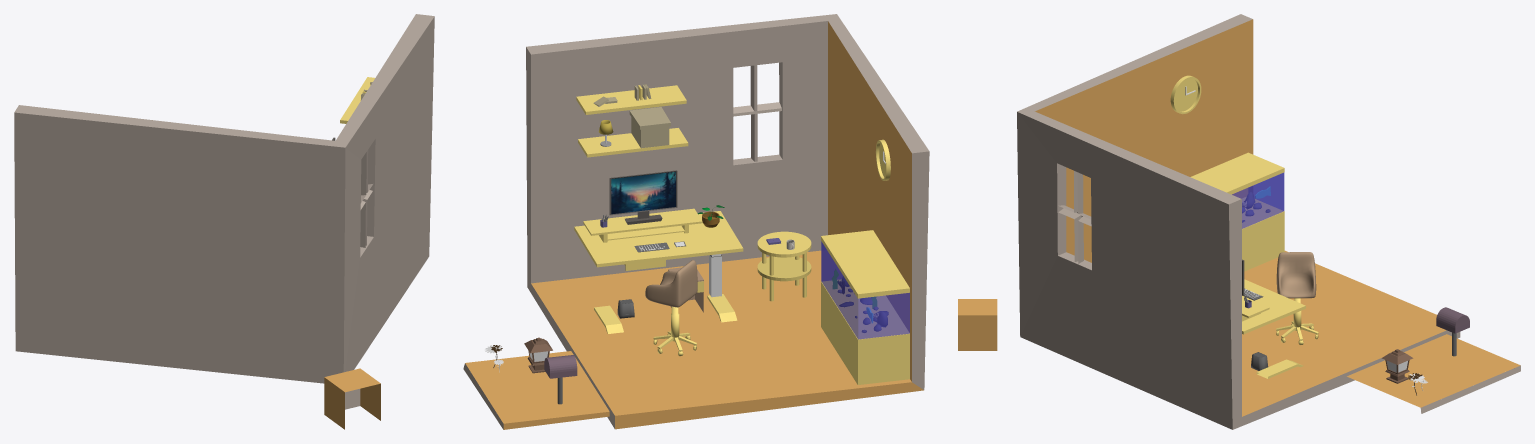
The model's file is Finale Version 2.glb.
3 renders of one model, left to right at view 1: azimuth 30°, elevation 25°; view 2: azimuth 150°, elevation 25°; view 3: azimuth 270°, elevation 25°, orthographic. The views are drawn at different scales.
Parts seen in each view (by area): view 1: Body, Cube, Shelves; view 2: Body, Aquarium, Desks, Mini Floor, Shelves, Table Stuff, Computer, Chair, Floor Items, Mailbox, Lamp, Clock; view 3: Body, Mini Floor, Aquarium, Cube, Desks, Chair, Clock, Floor Items, Mailbox, Lamp, Table Stuff.
Boxes of the visible parts, x1,y1,x2,y2 form: Body: [14, 14, 434, 383]; Cube: [324, 368, 380, 429]; Shelves: [340, 77, 374, 123]; Body: [526, 14, 929, 429]; Aquarium: [821, 230, 909, 384]; Desks: [574, 211, 811, 334]; Mini Floor: [463, 351, 609, 429]; Shelves: [576, 84, 688, 157]; Table Stuff: [583, 205, 794, 252]; Computer: [609, 170, 677, 224]; Chair: [645, 260, 697, 307]; Floor Items: [617, 267, 703, 356]; Mailbox: [544, 355, 577, 404]; Lamp: [524, 337, 552, 373]; Clock: [875, 139, 890, 180]; Body: [1017, 14, 1460, 429]; Mini Floor: [1347, 334, 1520, 413]; Aquarium: [1190, 152, 1284, 271]; Cube: [958, 299, 997, 350]; Desks: [1242, 279, 1305, 378]; Chair: [1276, 252, 1316, 298]; Clock: [1170, 75, 1201, 114]; Floor Items: [1251, 298, 1318, 370]; Mailbox: [1436, 307, 1469, 356]; Lamp: [1382, 349, 1413, 383]; Table Stuff: [1242, 288, 1269, 321].
Bounding box in the file's own units: 23.03 × 13.37 × 28.76.
Materials: 63 (1 with a texture image).
